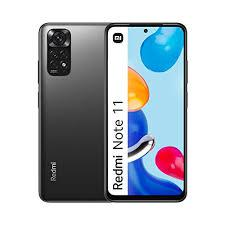Smartphone: (36, 25, 114, 204), (108, 21, 185, 202)
